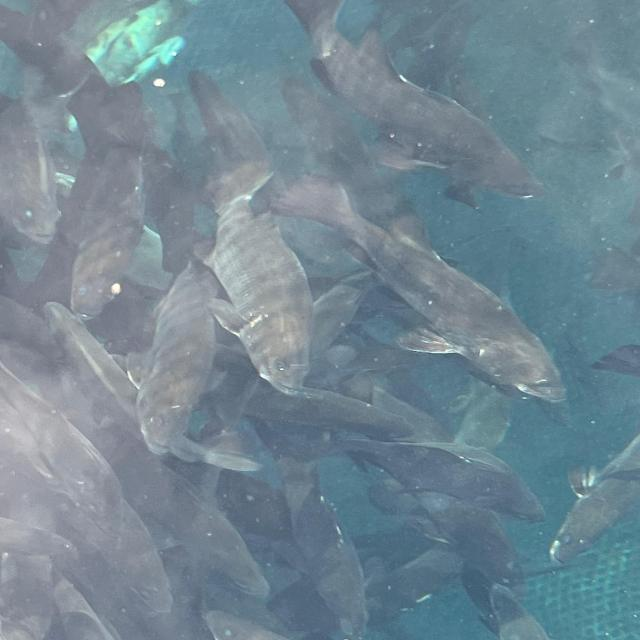ikan: (261, 74, 569, 404), (283, 0, 546, 210), (184, 69, 316, 396), (252, 420, 547, 523), (130, 251, 264, 472)
